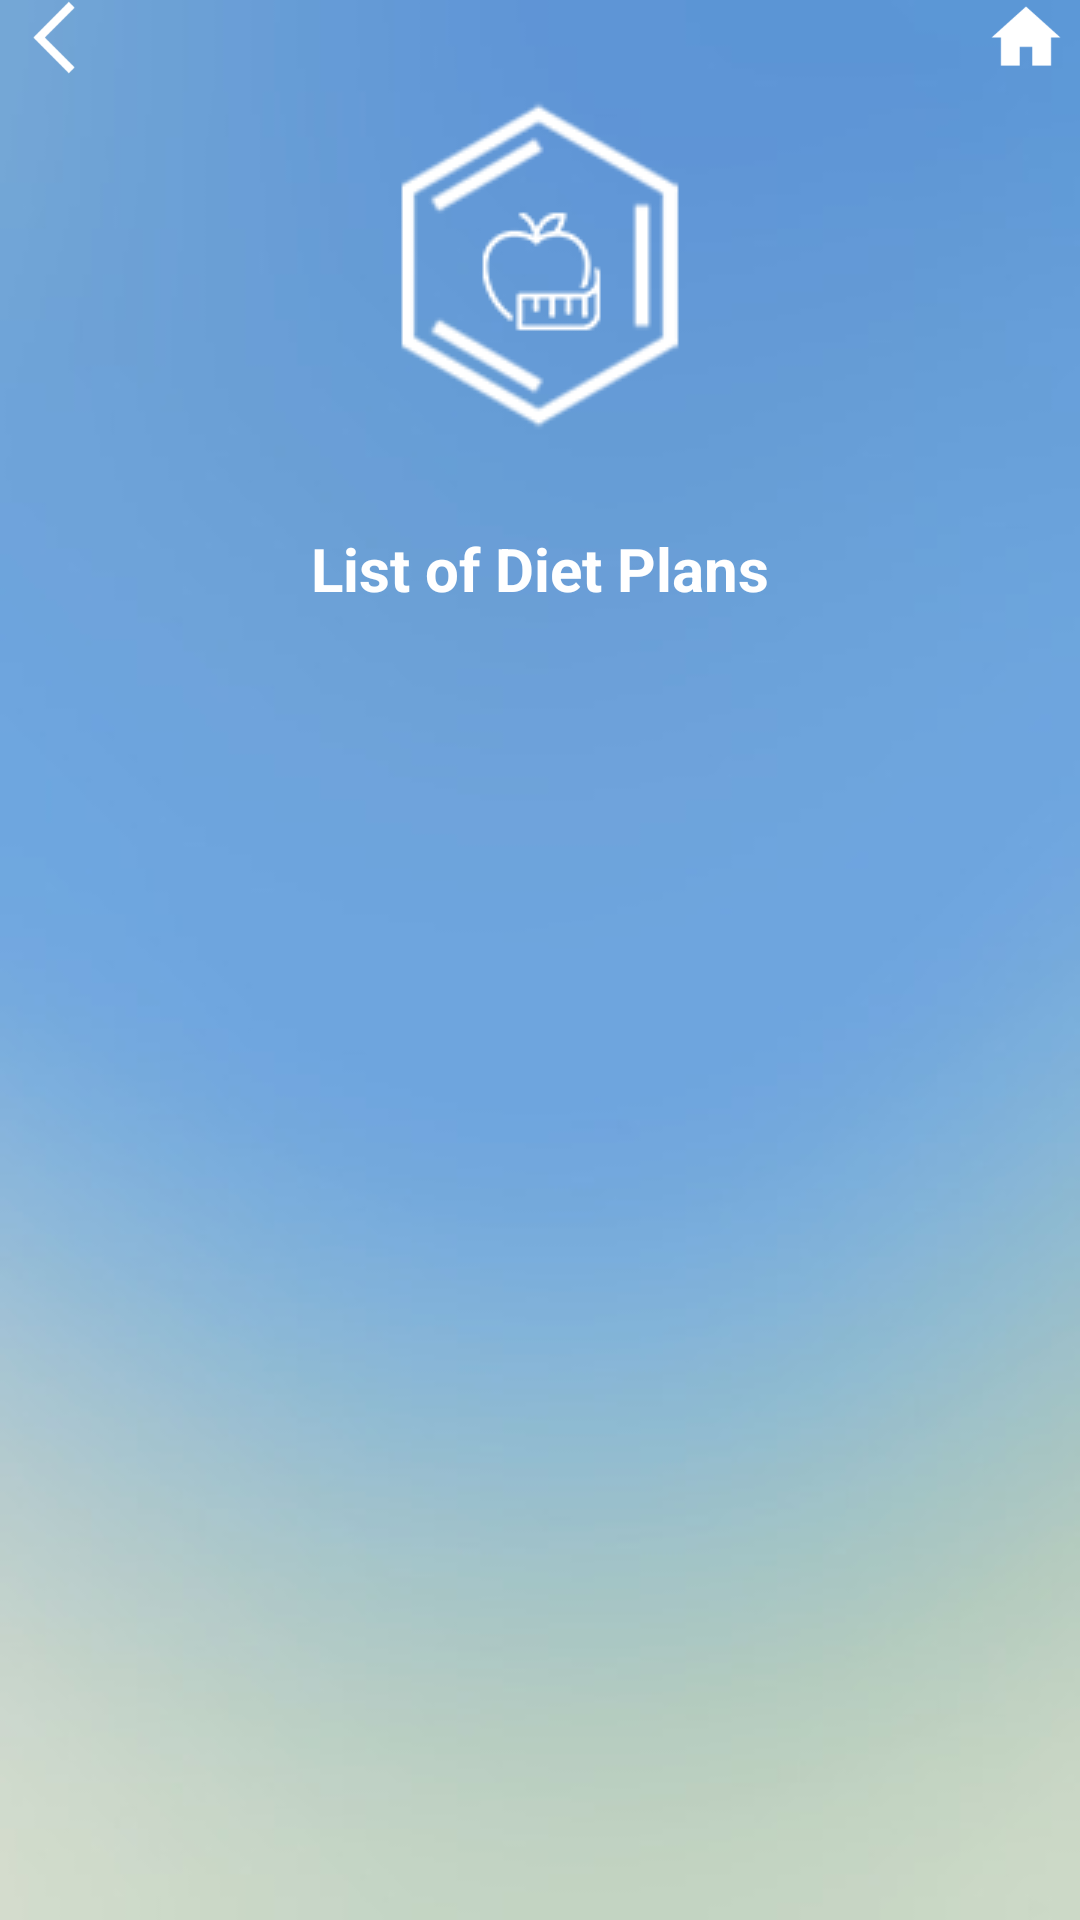

Locate icon controls on the screen. Image size 1080 x 1920, boxes as (x1, y1, x2, y2).
back: (33, 2, 75, 73)
home: (992, 7, 1060, 66)
